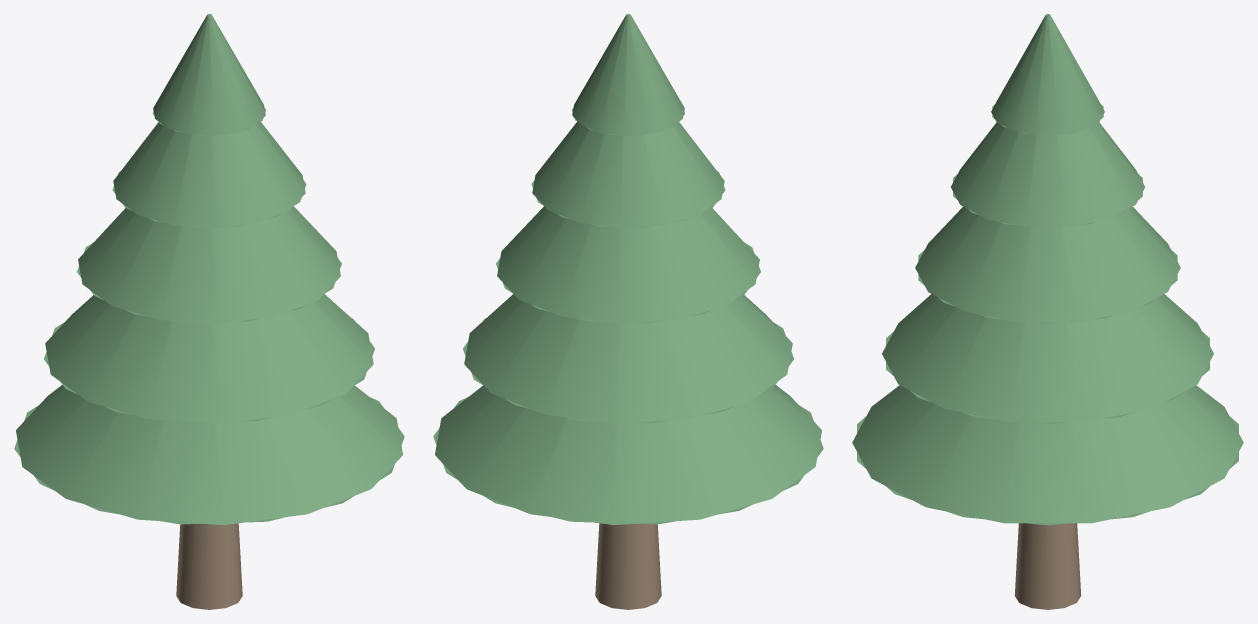
The model's file is Tree_Realistic_Pine.fbx.
3 views of the same model, side by side, from view 1: azimuth 30°, elevation 25°; view 2: azimuth 150°, elevation 25°; view 3: azimuth 270°, elevation 25° (orthographic).
Parts seen in each view (by area): view 1: Tree_Realistic_Pine; view 2: Tree_Realistic_Pine; view 3: Tree_Realistic_Pine.
Boxes of the visible parts, x1,y1,x2,y2 form: Tree_Realistic_Pine: (14,14,404,609); Tree_Realistic_Pine: (433,14,823,609); Tree_Realistic_Pine: (852,14,1243,609).
Size of the model in its own units: 330 by 540 by 330.
